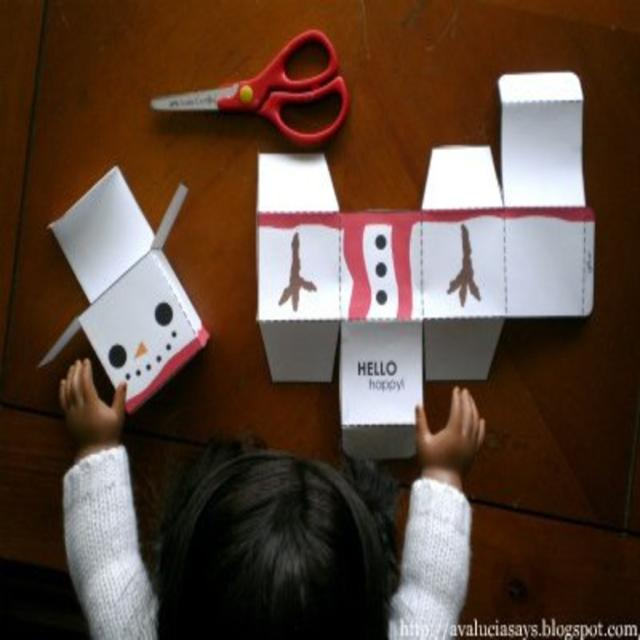scissors: (149, 27, 349, 145)
